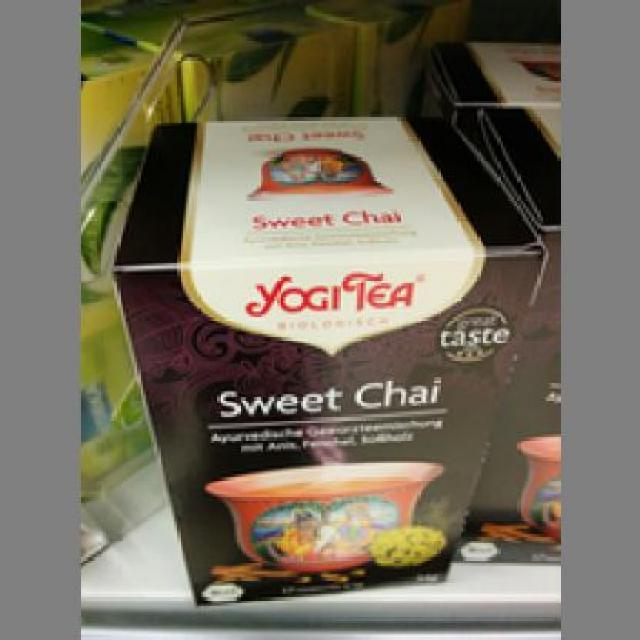Tea: (102, 110, 548, 606)
